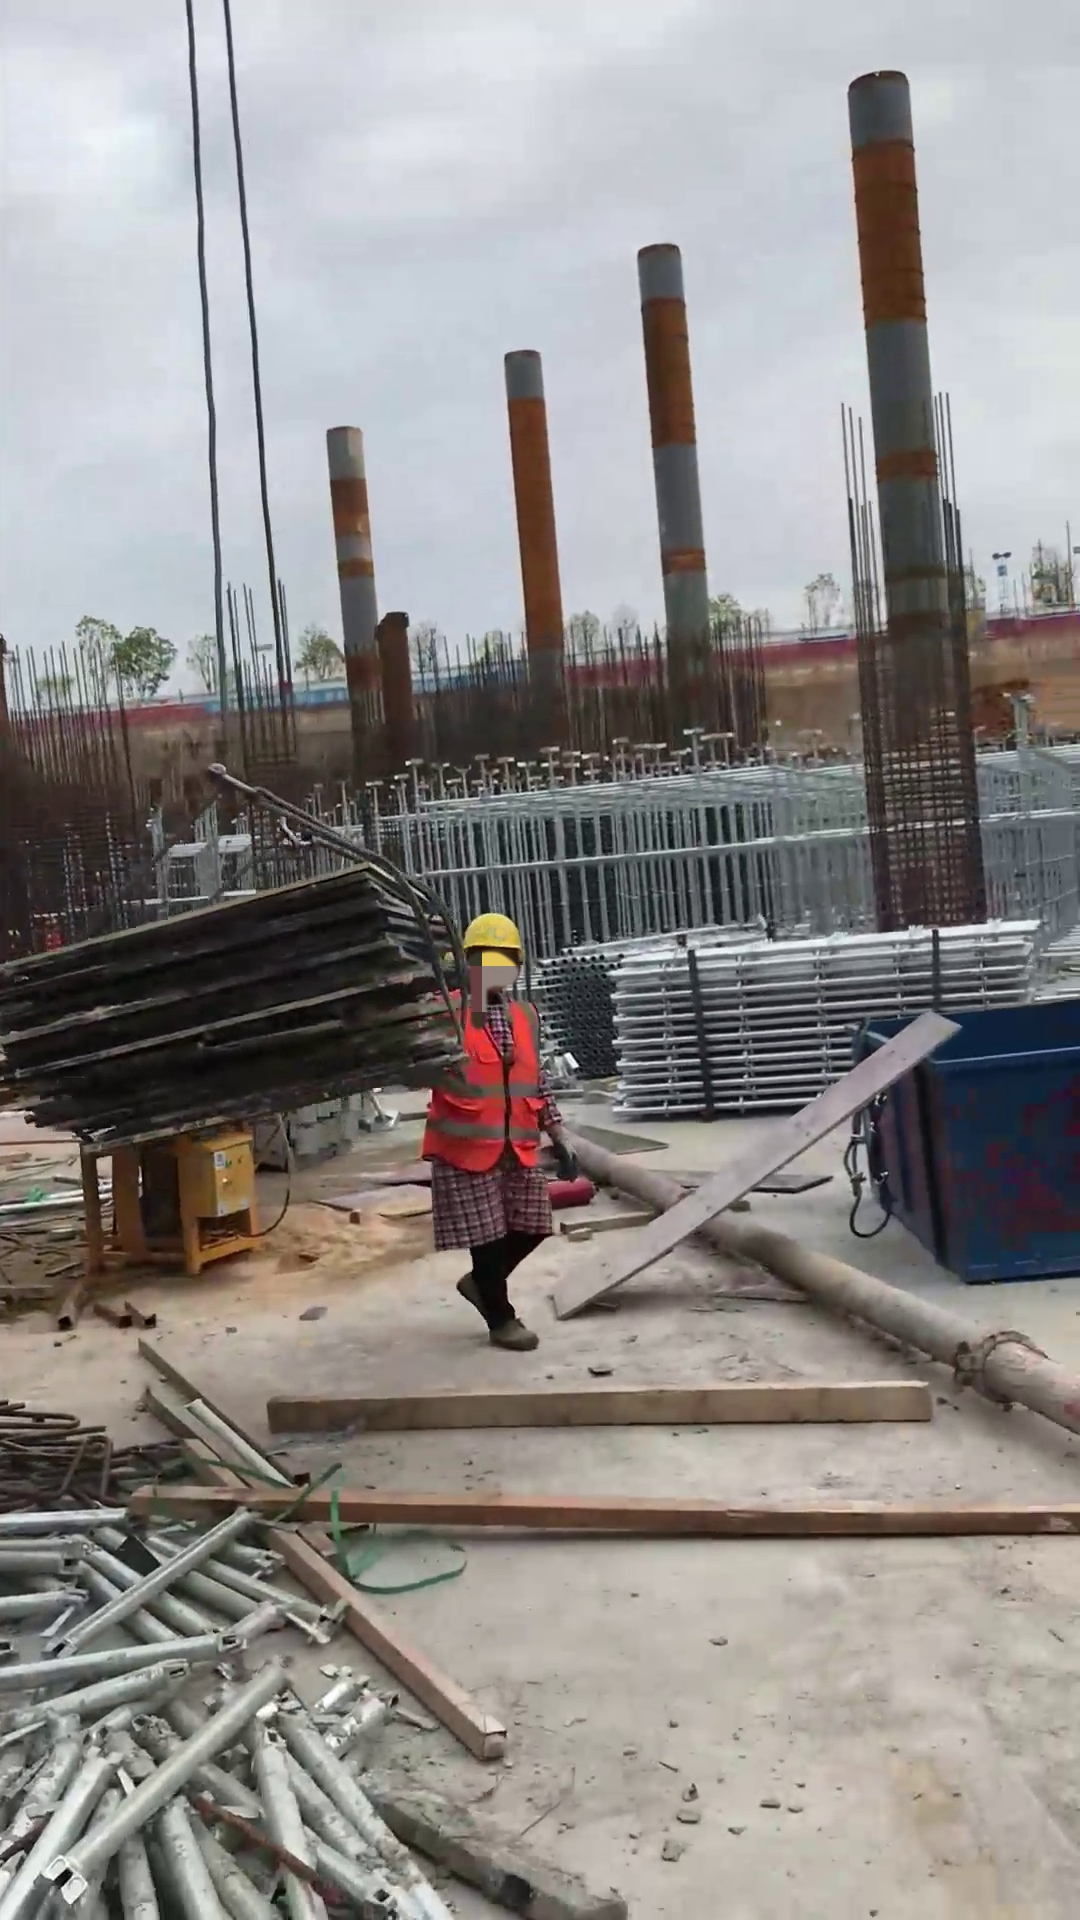board: (1, 860, 467, 1156)
cutter: (65, 1112, 267, 1275)
helmet: (459, 910, 528, 958)
hopper: (839, 990, 1080, 1288)
person: (419, 908, 582, 1356)
scaffold: (540, 921, 1044, 1119)
vest: (421, 984, 548, 1175)
